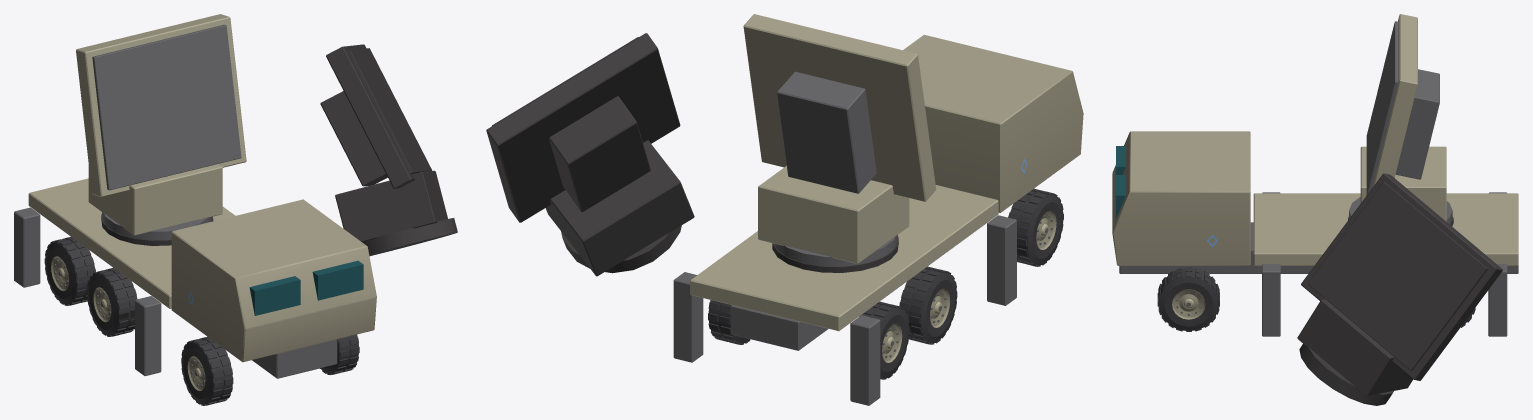
The model's file is hpmVehicle__leonidas.glb.
3 renders of one model, left to right at view 1: azimuth 30°, elevation 25°; view 2: azimuth 150°, elevation 25°; view 3: azimuth 270°, elevation 25°, orthographic. The views are drawn at different scales.
Parts seen in each view (by area): view 1: Hull_Mesh, Gun_Mesh, Wreck, Turret_Mesh, Wheel_L2_Mesh, Wheel_L1_Mesh, Wheel_L0_Mesh, Wheel_R2_Mesh; view 2: Hull_Mesh, Wreck, Gun_Mesh, Turret_Mesh, Wheel_L1_Mesh, Wheel_L2_Mesh, Wheel_L0_Mesh, Wheel_R0_Mesh; view 3: Hull_Mesh, Wreck, Gun_Mesh, Wheel_R2_Mesh, Turret_Mesh.
Boxes of the visible parts, x1,y1,x2,y2 form: Hull_Mesh: [14, 178, 376, 378]; Gun_Mesh: [76, 14, 246, 197]; Wreck: [50, 44, 457, 336]; Turret_Mesh: [88, 164, 222, 240]; Wheel_L2_Mesh: [181, 336, 233, 405]; Wheel_L1_Mesh: [87, 267, 137, 336]; Wheel_L0_Mesh: [44, 237, 95, 305]; Wheel_R2_Mesh: [320, 334, 359, 375]; Hull_Mesh: [673, 34, 1083, 405]; Wreck: [486, 33, 1048, 378]; Gun_Mesh: [743, 14, 936, 201]; Turret_Mesh: [758, 166, 909, 266]; Wheel_L1_Mesh: [899, 266, 957, 344]; Wheel_L2_Mesh: [1008, 188, 1063, 266]; Wheel_L0_Mesh: [859, 301, 909, 379]; Wheel_R0_Mesh: [708, 300, 750, 344]; Hull_Mesh: [1112, 131, 1518, 336]; Wreck: [1180, 173, 1502, 405]; Gun_Mesh: [1366, 14, 1439, 194]; Wheel_R2_Mesh: [1157, 267, 1219, 331]; Turret_Mesh: [1349, 146, 1452, 224].
Size of what is drawn, in the model's own units: 6.79 by 4.72 by 6.9.
